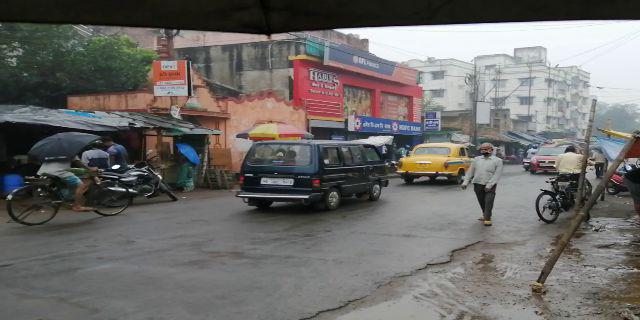Car: (401, 138, 474, 180)
Cycle: (6, 172, 134, 219)
Van: (239, 144, 393, 210)
